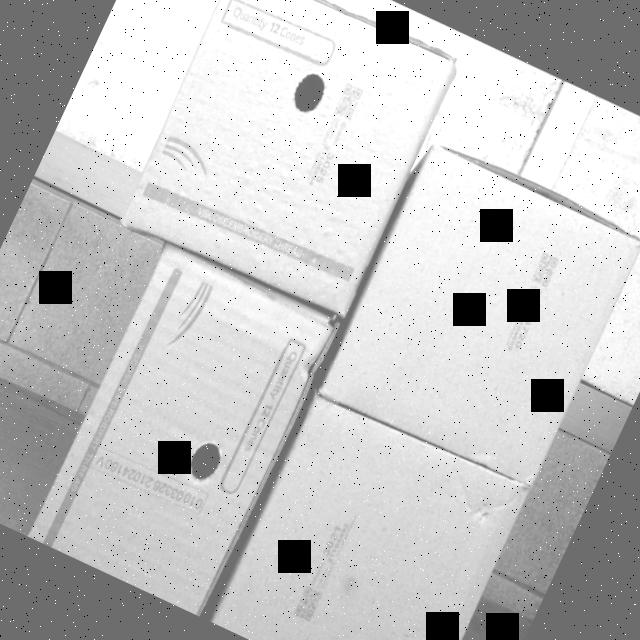box: (31, 240, 346, 615), (115, 0, 469, 321), (320, 144, 640, 489), (212, 392, 527, 640)
